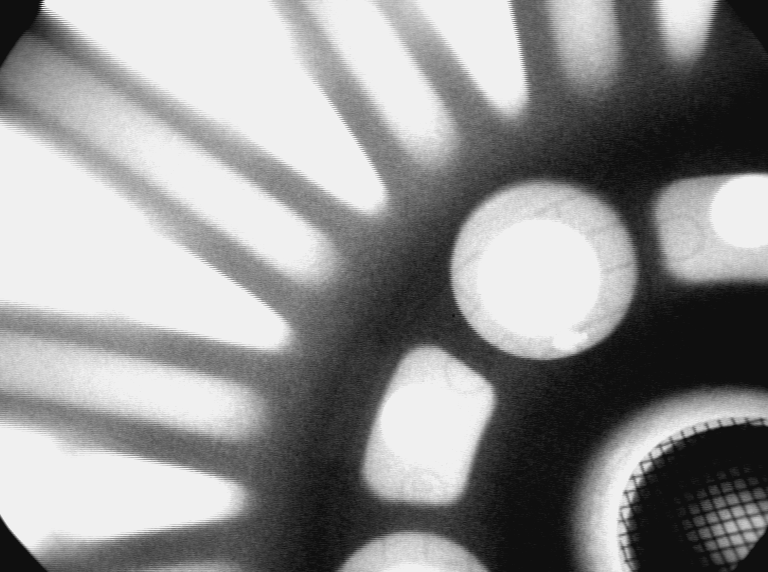defect: (549, 326, 592, 358)
